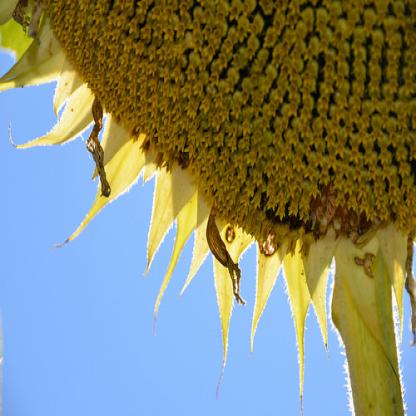SUN FLOWER: (8, 6, 413, 401)
